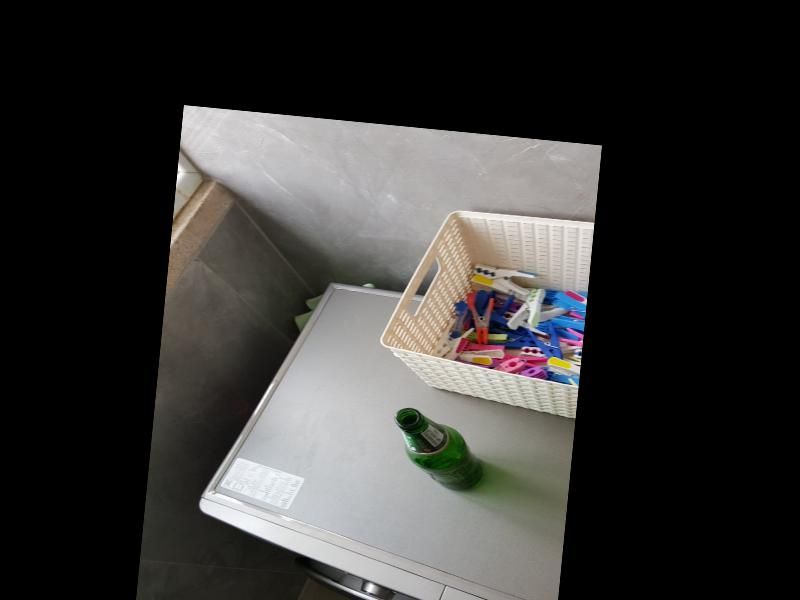Beer: (387, 407, 487, 493)
